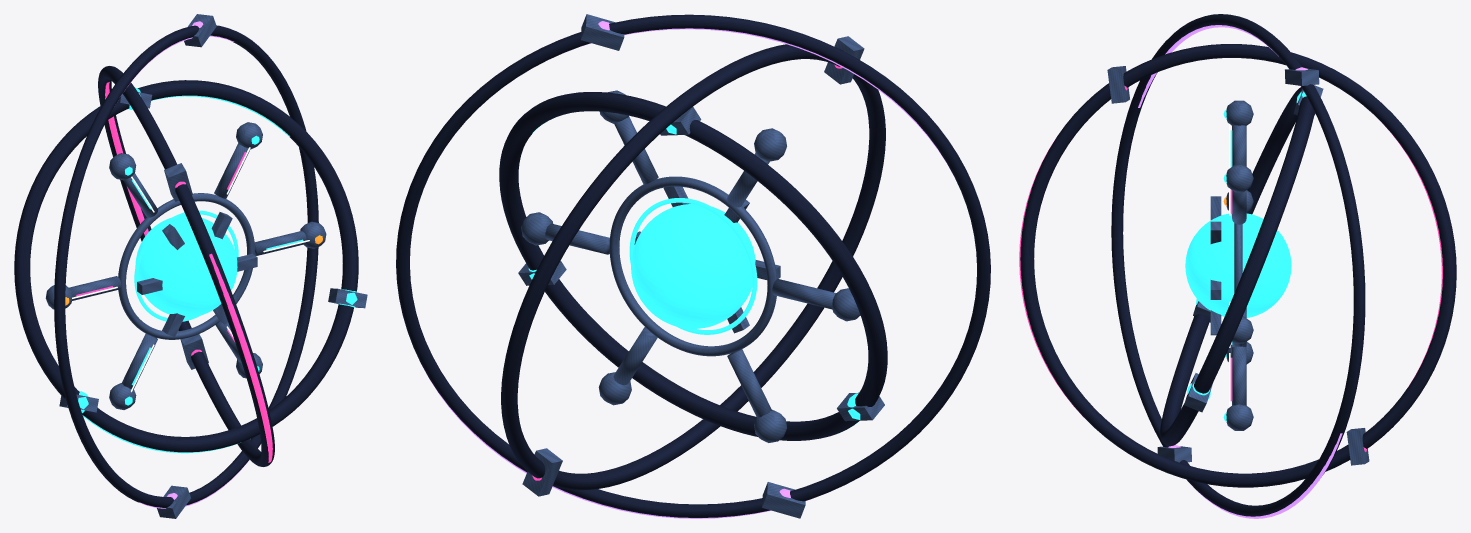
File: detonation-orrery-mk2.glb
3 views of the same model, side by side, from view 1: azimuth 30°, elevation 25°; view 2: azimuth 150°, elevation 25°; view 3: azimuth 270°, elevation 25° (orthographic). The views are drawn at different scales.
Visible parts, largest first — view 1: Cyan axial orbit chassis, Violet horizon orbit chassis, Pink polar orbit chassis, Reactor field, Core shell 1.72, Pink polar orbit energy channel, Core shell 1.34, Constraint arm 5, Constraint arm 2, Constraint arm 1, Constraint arm 4, Violet horizon orbit pod armour 2 (+10 smaller); view 2: Violet horizon orbit chassis, Cyan axial orbit chassis, Pink polar orbit chassis, Reactor field, Core shell 1.72, Core shell 1.34, Constraint arm 5, Violet horizon orbit energy channel, Constraint arm 4, Constraint arm 6, Pink polar orbit pod armour 1, Violet horizon orbit pod armour 1 (+9 smaller); view 3: Pink polar orbit chassis, Violet horizon orbit chassis, Cyan axial orbit chassis, Reactor field, Violet horizon orbit energy channel, Constraint arm 6, Pink polar orbit energy channel, Pink polar orbit pod armour 1, Pink polar orbit pod armour 2, Arm joint 2, Arm joint 6, Arm joint 3 (+3 smaller).
Part boxes in pixels (bbox=[...]): Cyan axial orbit chassis: bbox=[14, 80, 358, 452]; Violet horizon orbit chassis: bbox=[54, 25, 318, 507]; Pink polar orbit chassis: bbox=[98, 66, 274, 466]; Reactor field: bbox=[135, 216, 237, 317]; Core shell 1.72: bbox=[118, 193, 254, 339]; Pink polar orbit energy channel: bbox=[105, 82, 272, 462]; Core shell 1.34: bbox=[134, 210, 238, 321]; Constraint arm 5: bbox=[121, 334, 157, 389]; Constraint arm 2: bbox=[214, 143, 250, 198]; Constraint arm 1: bbox=[254, 231, 306, 255]; Constraint arm 4: bbox=[69, 276, 121, 300]; Violet horizon orbit pod armour 2: bbox=[157, 485, 190, 518]; Violet horizon orbit chassis: bbox=[396, 14, 990, 517]; Cyan axial orbit chassis: bbox=[499, 92, 887, 440]; Pink polar orbit chassis: bbox=[501, 44, 885, 490]; Reactor field: bbox=[631, 204, 755, 328]; Core shell 1.72: bbox=[609, 176, 776, 356]; Core shell 1.34: bbox=[629, 198, 757, 334]; Constraint arm 5: bbox=[727, 349, 771, 417]; Violet horizon orbit energy channel: bbox=[423, 28, 954, 518]; Constraint arm 4: bbox=[772, 279, 836, 309]; Constraint arm 6: bbox=[613, 327, 657, 385]; Pink polar orbit pod armour 1: bbox=[522, 448, 562, 496]; Violet horizon orbit pod armour 1: bbox=[580, 14, 624, 50]; Pink polar orbit chassis: bbox=[1020, 44, 1456, 487]; Violet horizon orbit chassis: bbox=[1111, 14, 1365, 516]; Cyan axial orbit chassis: bbox=[1160, 87, 1314, 446]; Reactor field: bbox=[1185, 213, 1291, 317]; Violet horizon orbit energy channel: bbox=[1138, 25, 1342, 518]; Constraint arm 6: bbox=[1232, 346, 1246, 405]; Pink polar orbit energy channel: bbox=[1019, 123, 1442, 417]; Pink polar orbit pod armour 1: bbox=[1346, 428, 1369, 465]; Pink polar orbit pod armour 2: bbox=[1107, 66, 1129, 103]; Arm joint 2: bbox=[1226, 164, 1253, 192]; Arm joint 6: bbox=[1226, 404, 1253, 430]; Arm joint 3: bbox=[1226, 100, 1253, 125].
Bounding box in the file's own units: 9.92 × 11.15 × 9.72.
7 materials, 7 textured.
